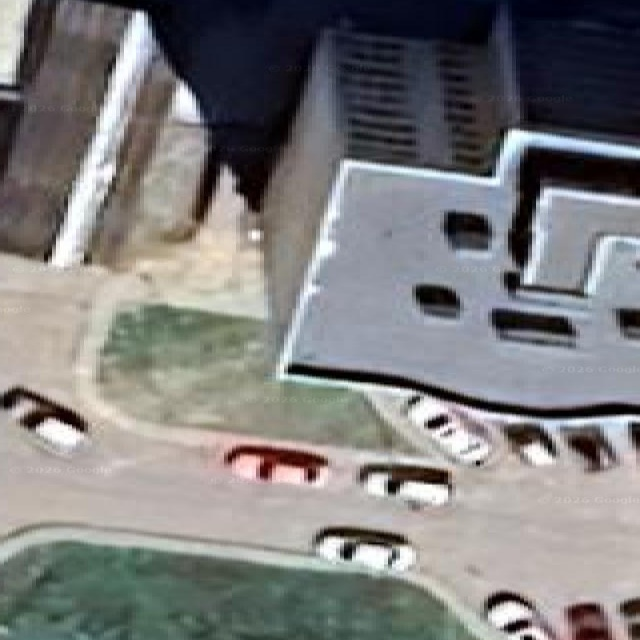car: (0, 387, 87, 455), (407, 396, 491, 465), (313, 528, 415, 570), (225, 445, 328, 486), (359, 464, 451, 506), (485, 592, 554, 639), (566, 603, 612, 639)
